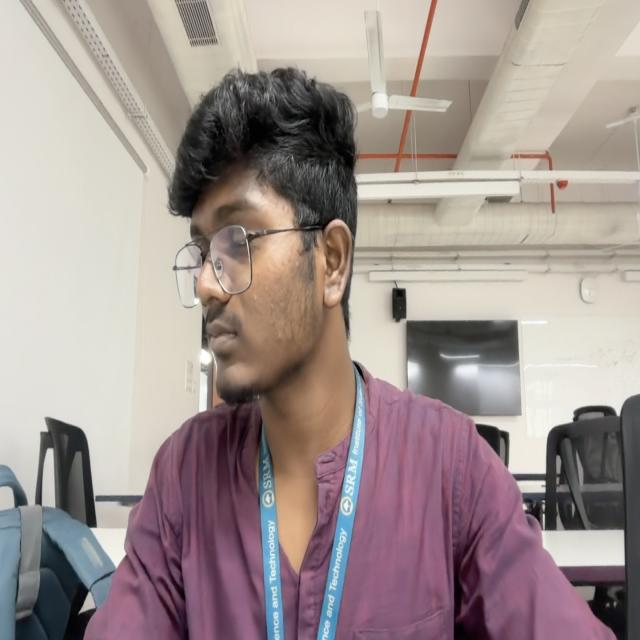ravindra: (166, 72, 358, 410)
